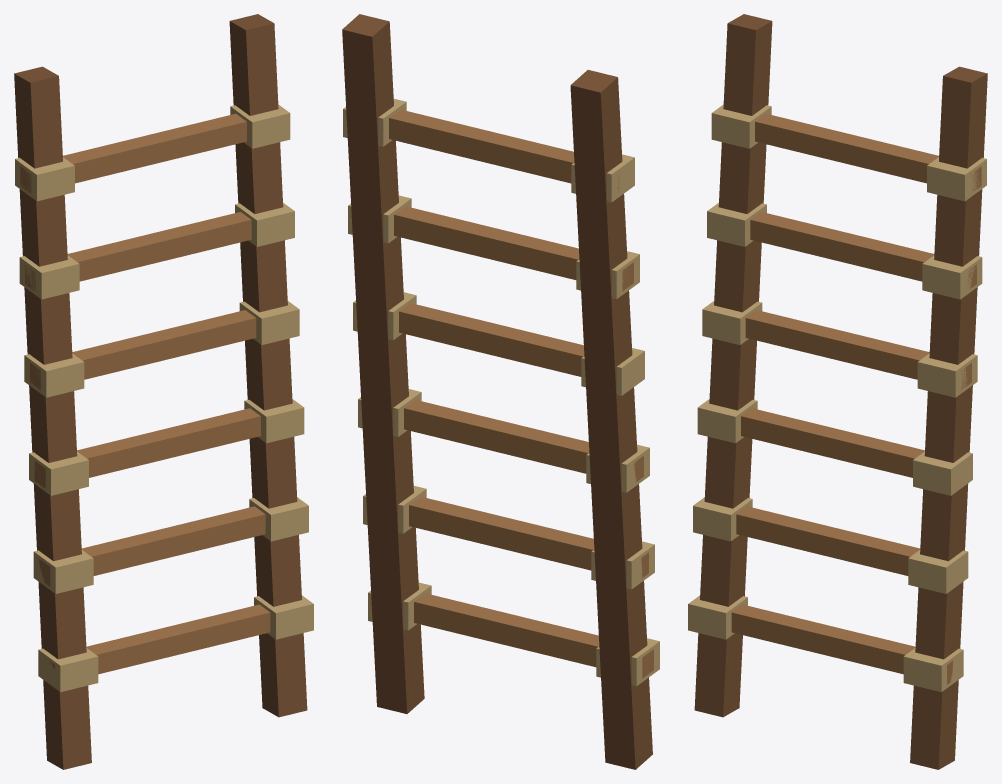
The model's file is kit_ladder.glb.
3 renders of one model, left to right at view 1: azimuth 30°, elevation 25°; view 2: azimuth 150°, elevation 25°; view 3: azimuth 330°, elevation 25°, orthographic. The views are drawn at different scales.
Visible parts, largest first — view 1: kit_ladder_wood; view 2: kit_ladder_wood; view 3: kit_ladder_wood.
Boxes of the visible parts, x1,y1,x2,y2 form: kit_ladder_wood: (14, 14, 313, 769); kit_ladder_wood: (342, 14, 659, 769); kit_ladder_wood: (688, 14, 987, 769).
Size of the model in its own units: 0.4 by 1 by 0.1396.
Materials: 1 (1 with a texture image).
